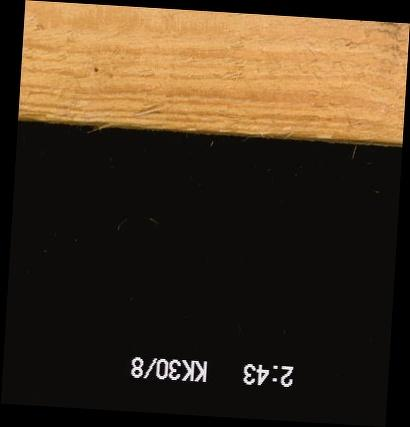small_knot: (84, 62, 106, 82)
